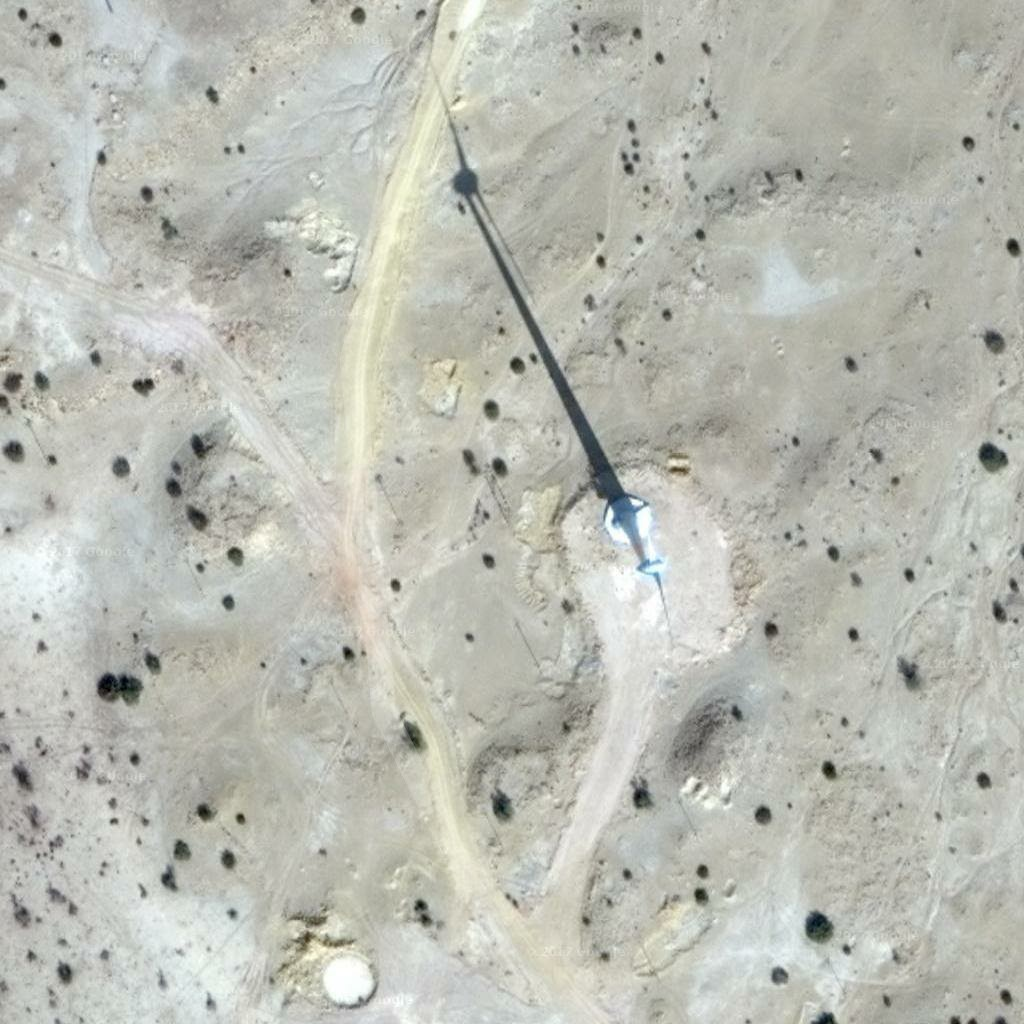Windmill: (421, 55, 633, 499)
